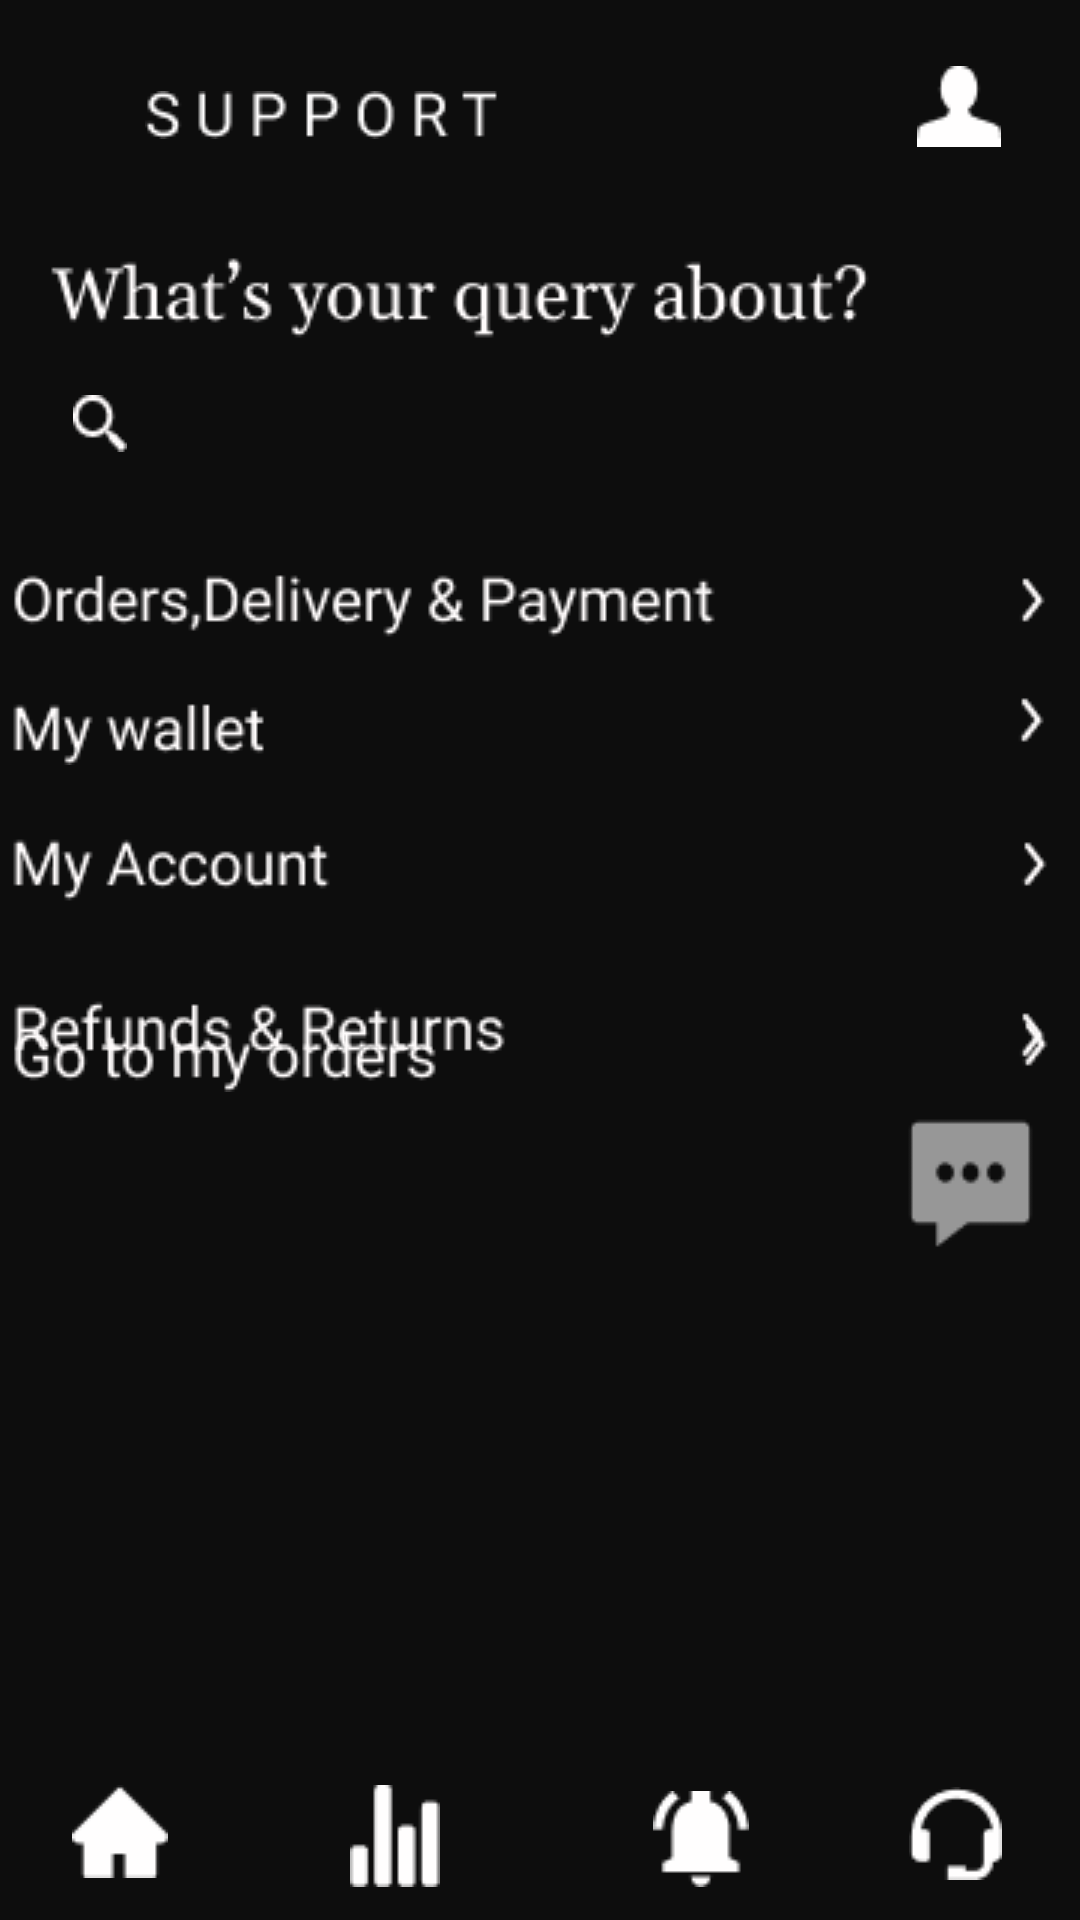

Screen size 1080px×1920px. Icon name, then its center in pixels as (x=x, y=y):
chat: (x=970, y=1184)
home: (x=120, y=1832)
notification: (x=701, y=1839)
profile: (x=959, y=106)
search: (x=100, y=423)
stats: (x=395, y=1836)
